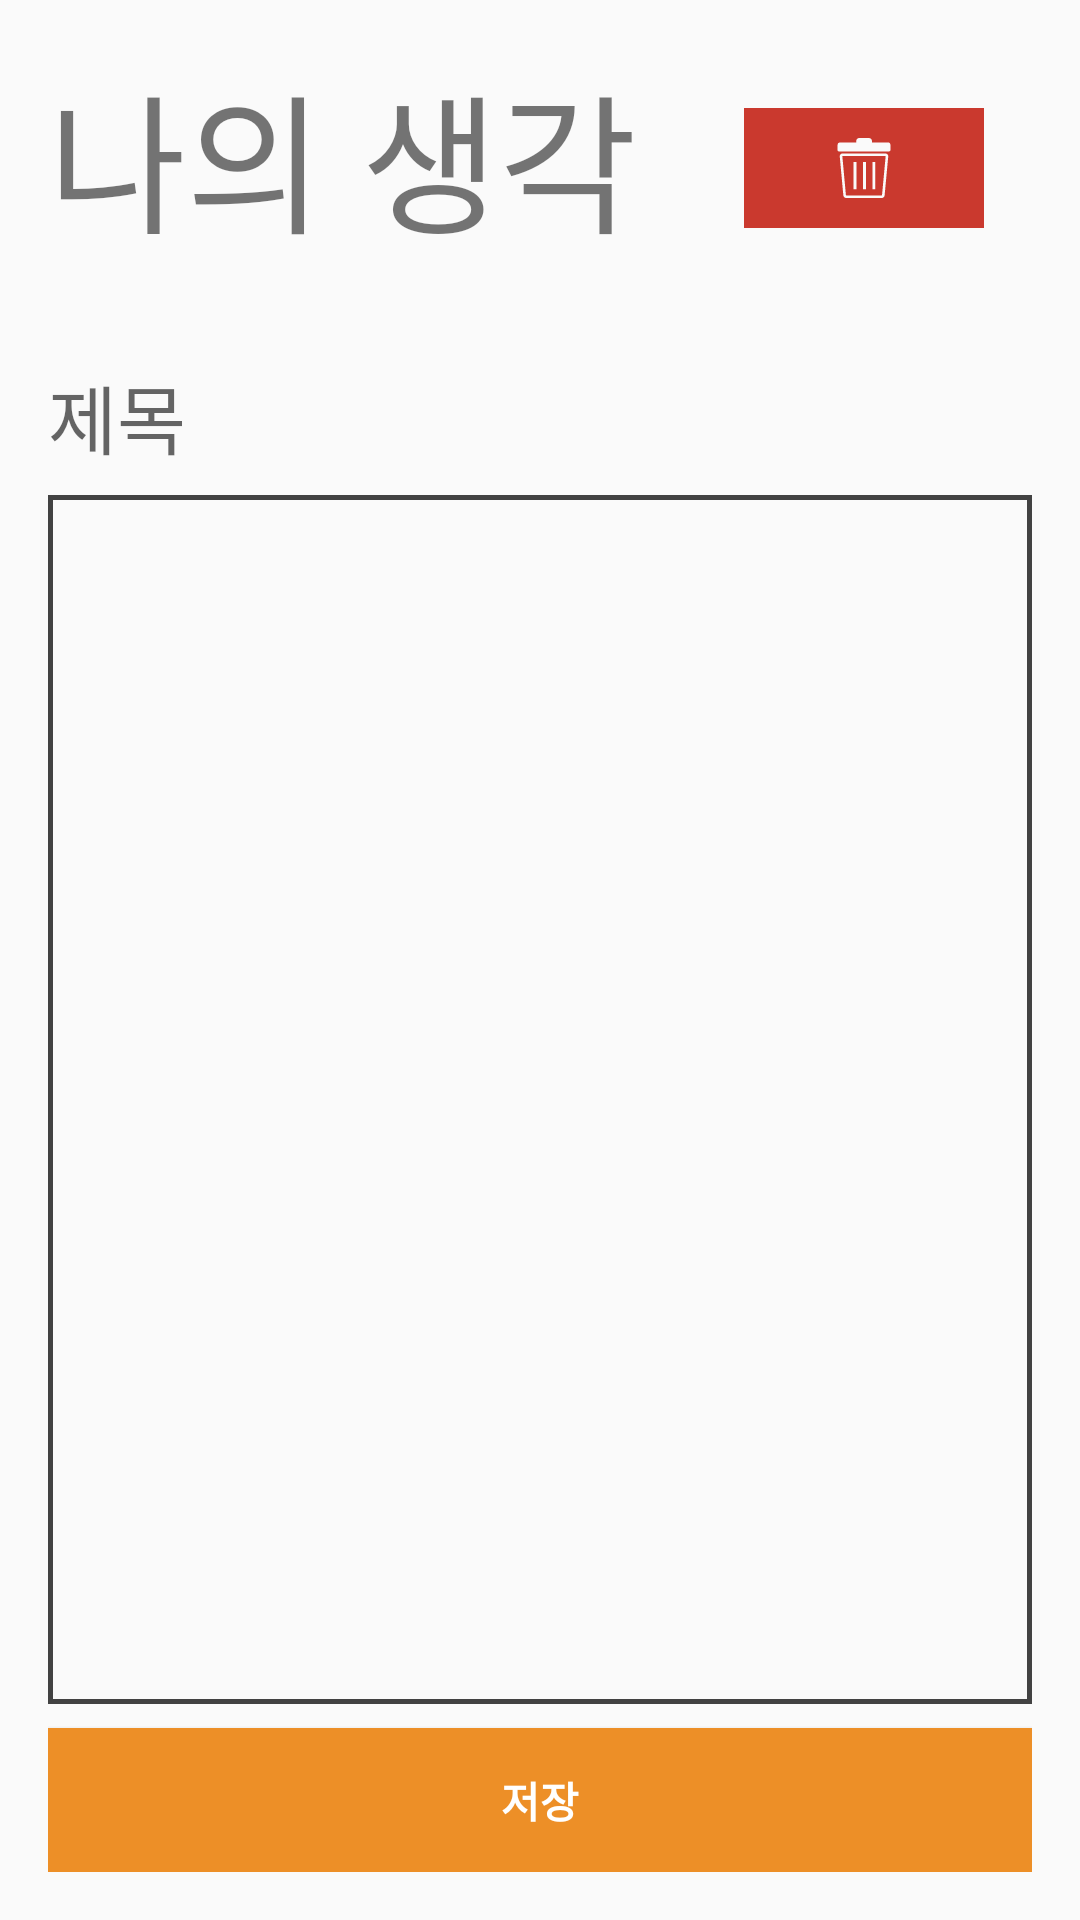

Named icons in this screenshot (1080px x 1920px) and their bounding boxes, (x1, y1, x2, y2):
trashcan: (744, 108, 984, 228)
